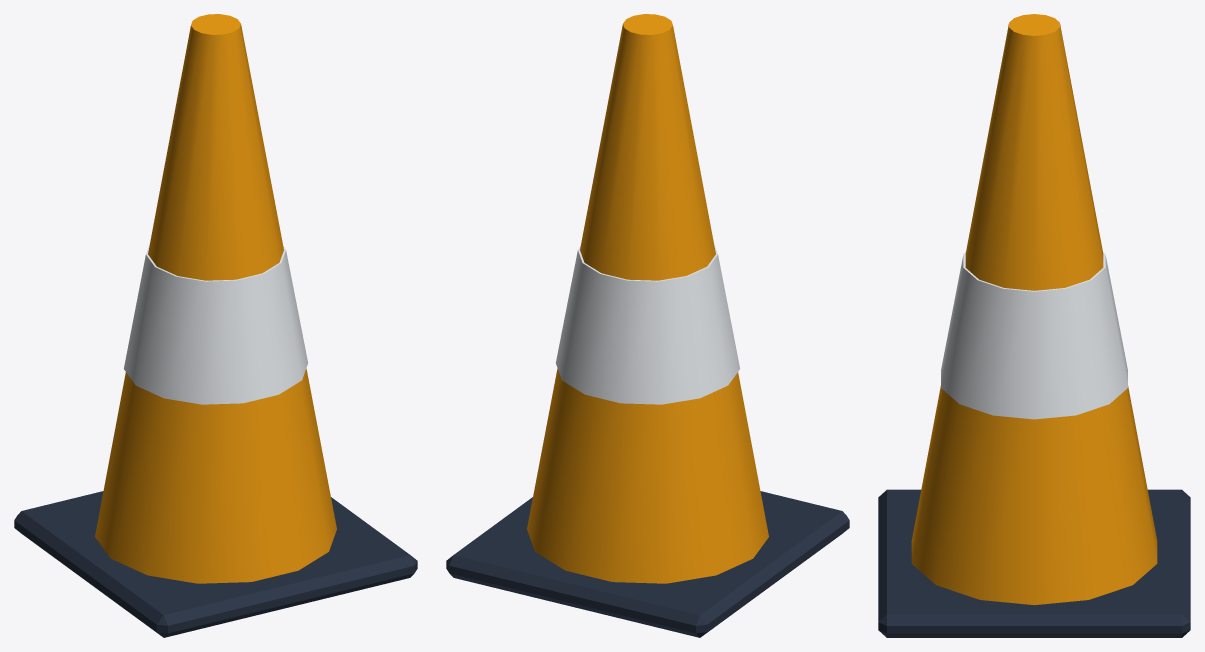
The model's file is road_cone.glb.
The picture shows the model from 3 angles, left to right: view 1: azimuth 30°, elevation 25°; view 2: azimuth 150°, elevation 25°; view 3: azimuth 270°, elevation 25°; orthographic projection. The views are drawn at different scales.
Parts seen in each view (by area): view 1: road_cone; view 2: road_cone; view 3: road_cone.
Part boxes in pixels (x1=…): road_cone: x1=14, y1=14, x2=417, y2=637; road_cone: x1=446, y1=14, x2=849, y2=637; road_cone: x1=878, y1=14, x2=1190, y2=637.
Size of the model in its own units: 0.36 by 0.7 by 0.36.
